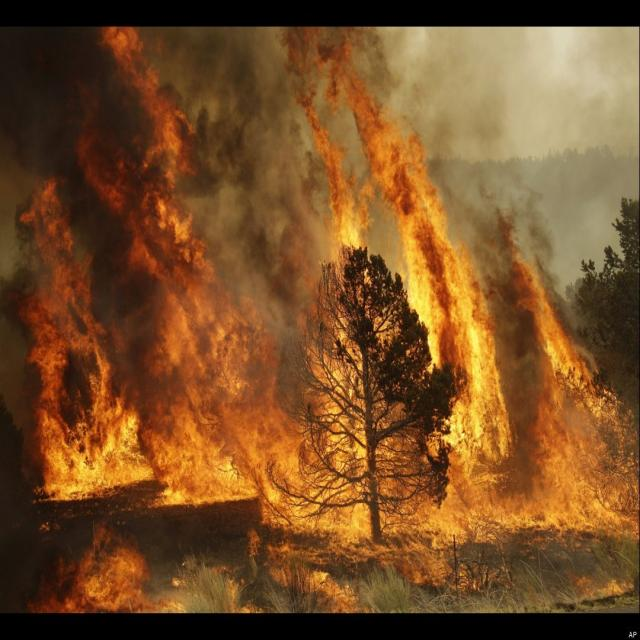Fire: (22, 149, 631, 536), (55, 536, 334, 605)
Smoke: (19, 44, 333, 332)
